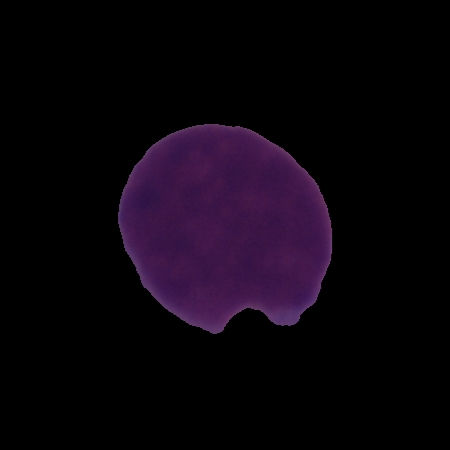ALL: (114, 119, 336, 336)
